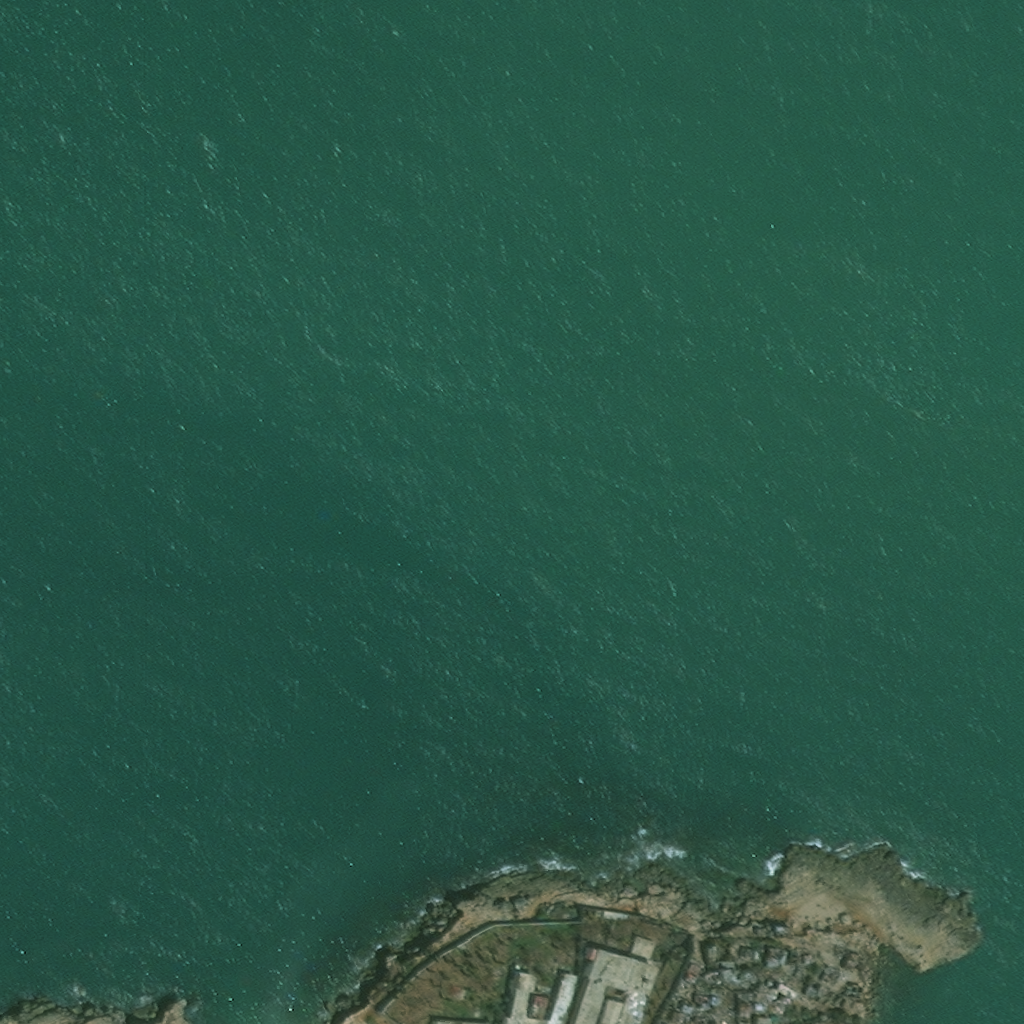destroyed: (455, 986, 472, 1002), (701, 1004, 719, 1016), (602, 909, 618, 919), (696, 984, 707, 996)
major_damage: (563, 935, 662, 1023), (675, 962, 698, 983), (835, 950, 854, 971), (764, 948, 783, 968), (718, 960, 735, 979), (817, 964, 835, 978), (797, 983, 812, 998), (768, 925, 786, 937), (742, 949, 757, 962), (727, 1002, 741, 1015), (807, 988, 822, 1000), (841, 985, 855, 997), (675, 998, 687, 1012), (784, 949, 793, 964), (743, 1002, 754, 1014), (836, 1000, 847, 1011), (704, 970, 714, 980), (799, 953, 808, 964), (669, 1011, 681, 1019), (793, 964, 801, 973), (688, 1016, 698, 1023), (730, 1017, 739, 1022)
minor_damage: (506, 970, 545, 1021), (547, 972, 574, 1023)
unclassified: (497, 1012, 523, 1023), (782, 977, 796, 990), (767, 969, 781, 981), (828, 942, 840, 954), (864, 940, 877, 951), (794, 933, 805, 944), (808, 937, 819, 946), (869, 931, 877, 940)
